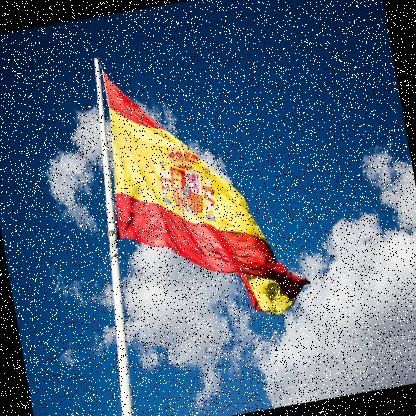es: (94, 31, 319, 346)
